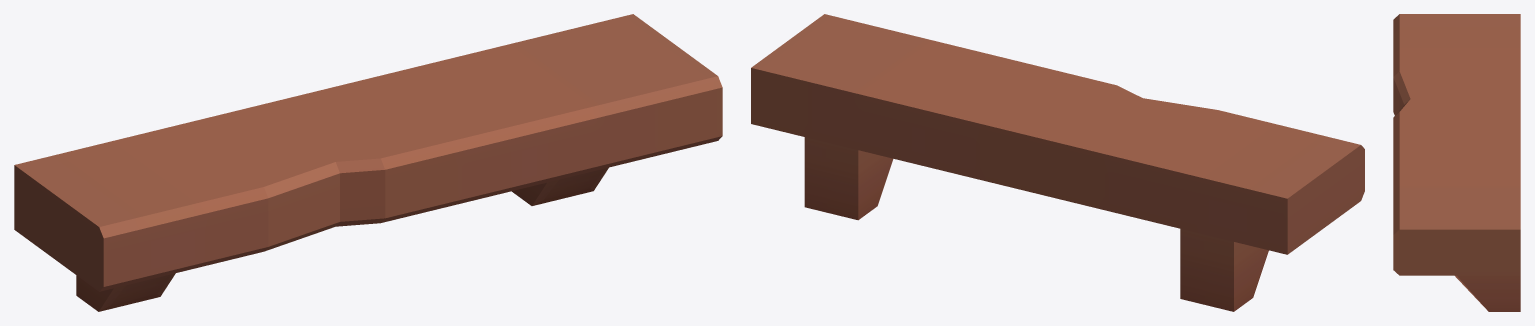
The model's file is shelf_large.glb.
3 views of the same model, side by side, from view 1: azimuth 30°, elevation 25°; view 2: azimuth 150°, elevation 25°; view 3: azimuth 270°, elevation 25° (orthographic). The views are drawn at different scales.
Visible parts, largest first — view 1: shelf_large; view 2: shelf_large; view 3: shelf_large.
Boxes of the visible parts, x1=… form: shelf_large: x1=14, y1=14, x2=722, y2=311; shelf_large: x1=751, y1=14, x2=1364, y2=311; shelf_large: x1=1393, y1=14, x2=1520, y2=311.
Bounding box in the file's own units: 2 × 0.45 × 0.5.
1 material, 1 textured.
